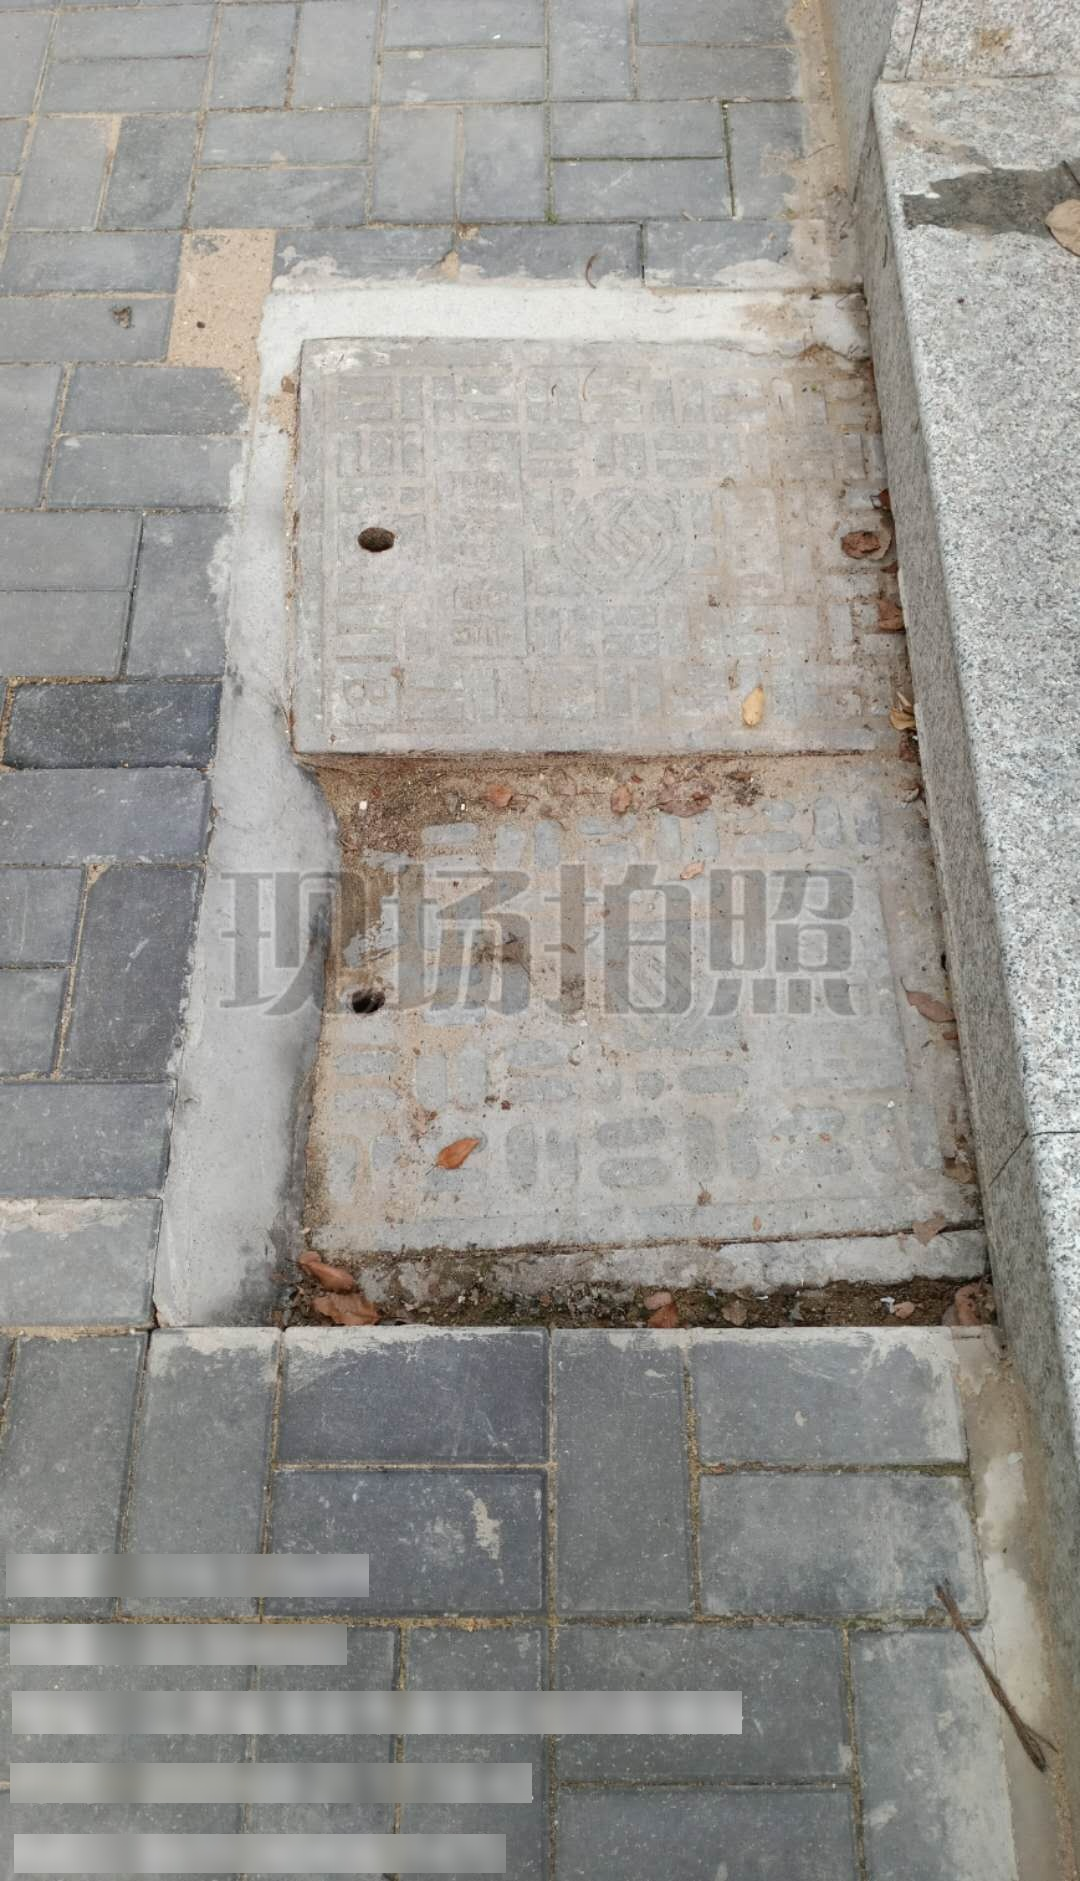uncovered: (235, 287, 997, 1341)
